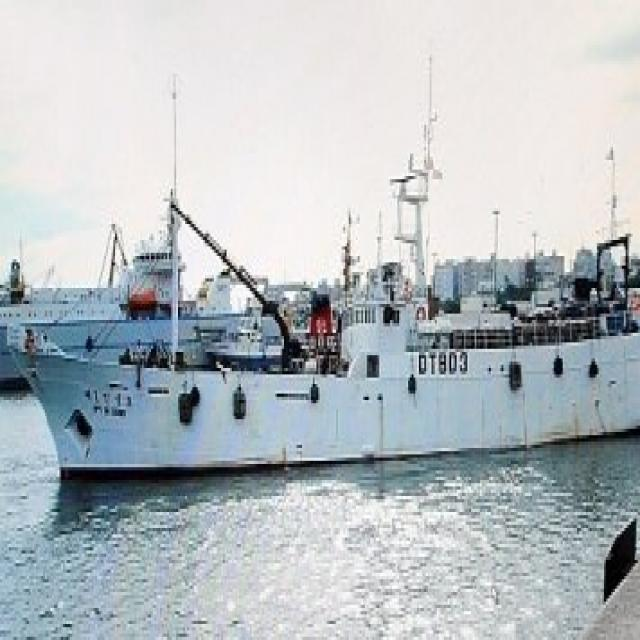Ship: (1, 161, 640, 516)
